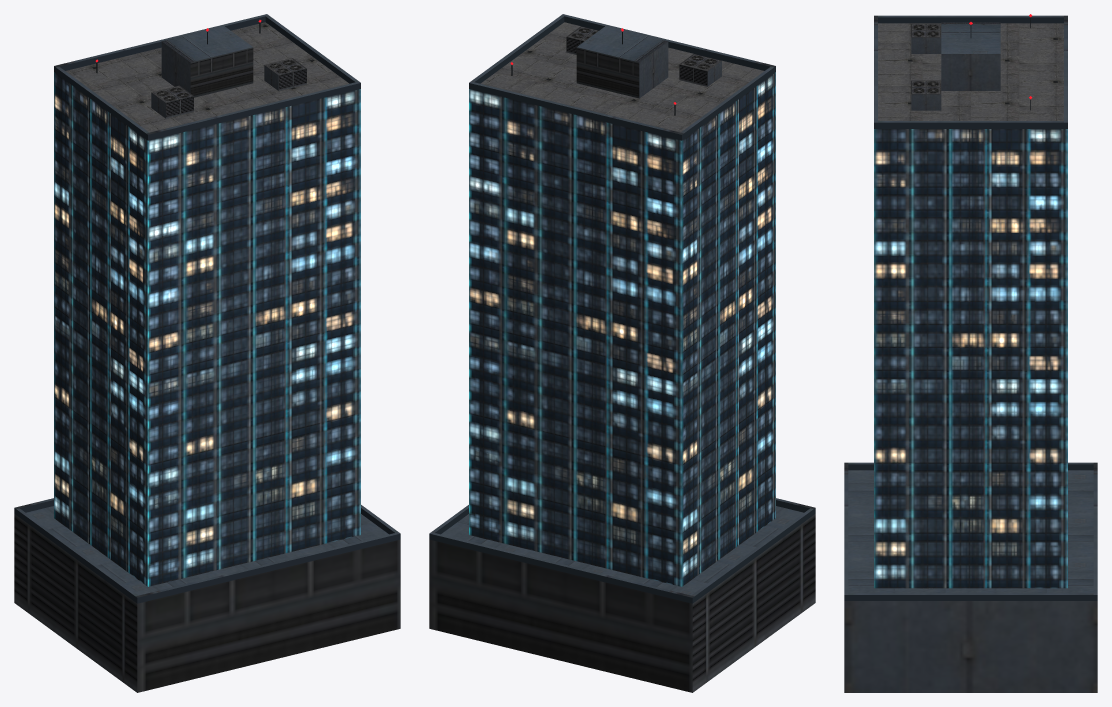
File: commercial-blue-glass-03.glb
3 renders of one model, left to right at view 1: azimuth 30°, elevation 25°; view 2: azimuth 150°, elevation 25°; view 3: azimuth 270°, elevation 25°, orthographic. The views are drawn at different scales.
Visible parts, largest first — view 1: commercial-blue-glass-03; view 2: commercial-blue-glass-03; view 3: commercial-blue-glass-03.
Boxes of the visible parts, x1,y1,x2,y2 form: commercial-blue-glass-03: (14,14,400,692); commercial-blue-glass-03: (429,14,815,692); commercial-blue-glass-03: (844,14,1097,692).
Bounding box in the file's own units: 42 × 89.56 × 34.
1 material, 1 textured.
